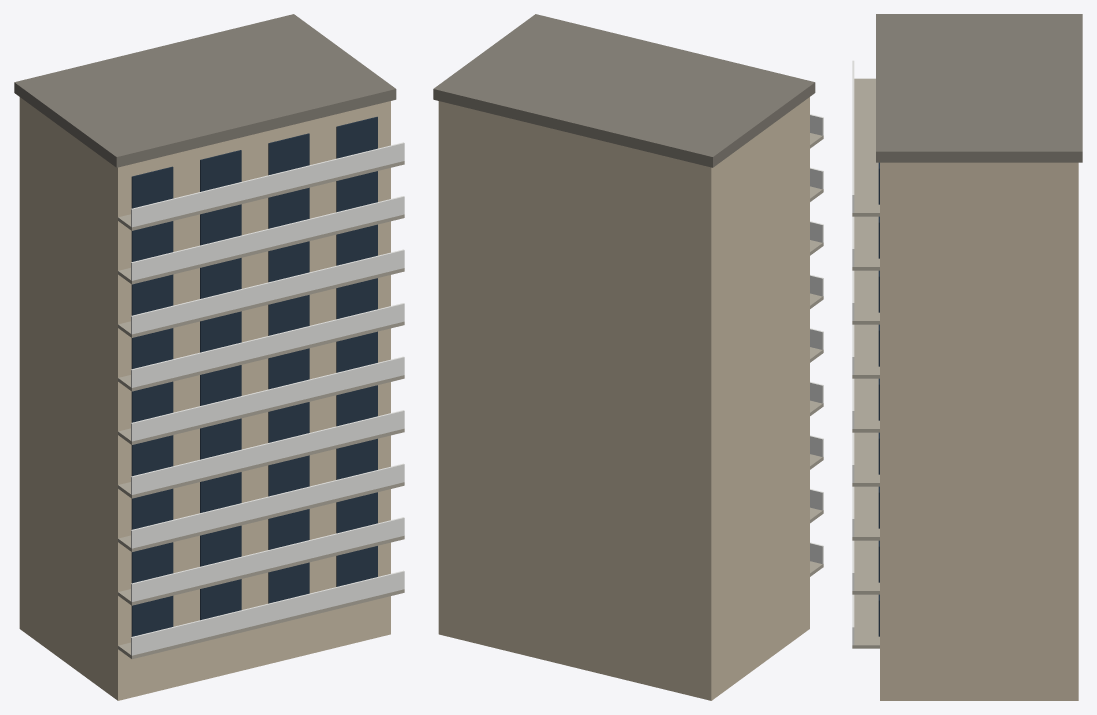
The model's file is city_apartment_block.glb.
3 views of the same model, side by side, from view 1: azimuth 30°, elevation 25°; view 2: azimuth 150°, elevation 25°; view 3: azimuth 270°, elevation 25° (orthographic).
Visible parts, largest first — view 1: city_apartment_block_tile, city_apartment_block_window, city_apartment_block_white, city_apartment_block_concreteDark, city_apartment_block_concrete; view 2: city_apartment_block_tile, city_apartment_block_concreteDark, city_apartment_block_white, city_apartment_block_concrete; view 3: city_apartment_block_tile, city_apartment_block_concreteDark, city_apartment_block_concrete, city_apartment_block_white, city_apartment_block_window.
Part boxes in pixels (box(x1,y1,x2,y2)): city_apartment_block_tile: box(19, 97, 390, 700); city_apartment_block_window: box(131, 116, 377, 636); city_apartment_block_white: box(131, 142, 404, 655); city_apartment_block_concreteDark: box(14, 14, 396, 167); city_apartment_block_concrete: box(118, 161, 404, 659); city_apartment_block_tile: box(438, 97, 809, 700); city_apartment_block_concreteDark: box(433, 14, 815, 167); city_apartment_block_white: box(810, 114, 823, 564); city_apartment_block_concrete: box(810, 133, 823, 576); city_apartment_block_tile: box(880, 162, 1078, 700); city_apartment_block_concreteDark: box(876, 14, 1082, 162); city_apartment_block_concrete: box(852, 78, 879, 648); city_apartment_block_white: box(852, 60, 854, 645); city_apartment_block_window: box(878, 162, 879, 636).
Bounding box in the file's own units: 16.4 × 30.6 × 11.6.
